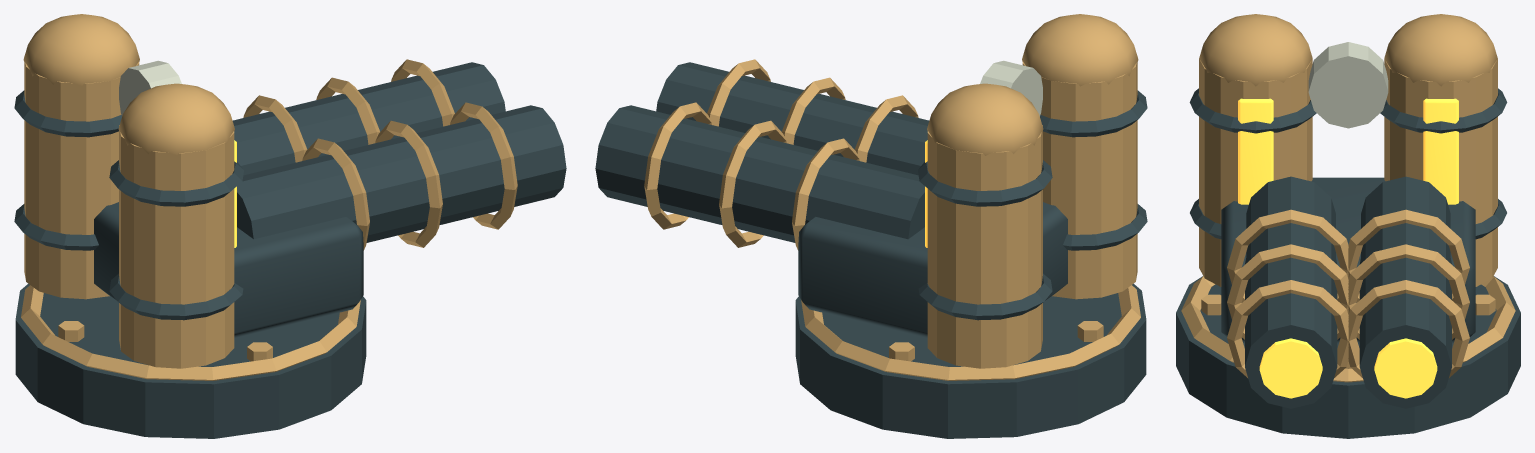
The model's file is module-flame.glb.
3 renders of one model, left to right at view 1: azimuth 30°, elevation 25°; view 2: azimuth 150°, elevation 25°; view 3: azimuth 270°, elevation 25°, orthographic. The views are drawn at different scales.
Parts seen in each view (by area): view 1: module-flame / Hull | charcoal iron, module-flame / Fittings | worn maritime brass, module-flame / Insulator | warm porcelain; view 2: module-flame / Hull | charcoal iron, module-flame / Fittings | worn maritime brass, module-flame / Insulator | warm porcelain; view 3: module-flame / Hull | charcoal iron, module-flame / Fittings | worn maritime brass, module-flame / Lamp | furnace amber, module-flame / Insulator | warm porcelain.
Part boxes in pixels (x1,y1,x2,y2): module-flame / Hull | charcoal iron: [14, 62, 566, 438]; module-flame / Fittings | worn maritime brass: [21, 14, 517, 380]; module-flame / Insulator | warm porcelain: [119, 60, 181, 116]; module-flame / Hull | charcoal iron: [595, 62, 1147, 438]; module-flame / Fittings | worn maritime brass: [644, 14, 1140, 380]; module-flame / Insulator | warm porcelain: [980, 60, 1042, 116]; module-flame / Hull | charcoal iron: [1176, 88, 1520, 438]; module-flame / Fittings | worn maritime brass: [1181, 14, 1515, 382]; module-flame / Lamp | furnace amber: [1238, 98, 1458, 398]; module-flame / Insulator | warm porcelain: [1308, 42, 1388, 128].
Size of the model in its own units: 2.58 by 1.66 by 1.64.
